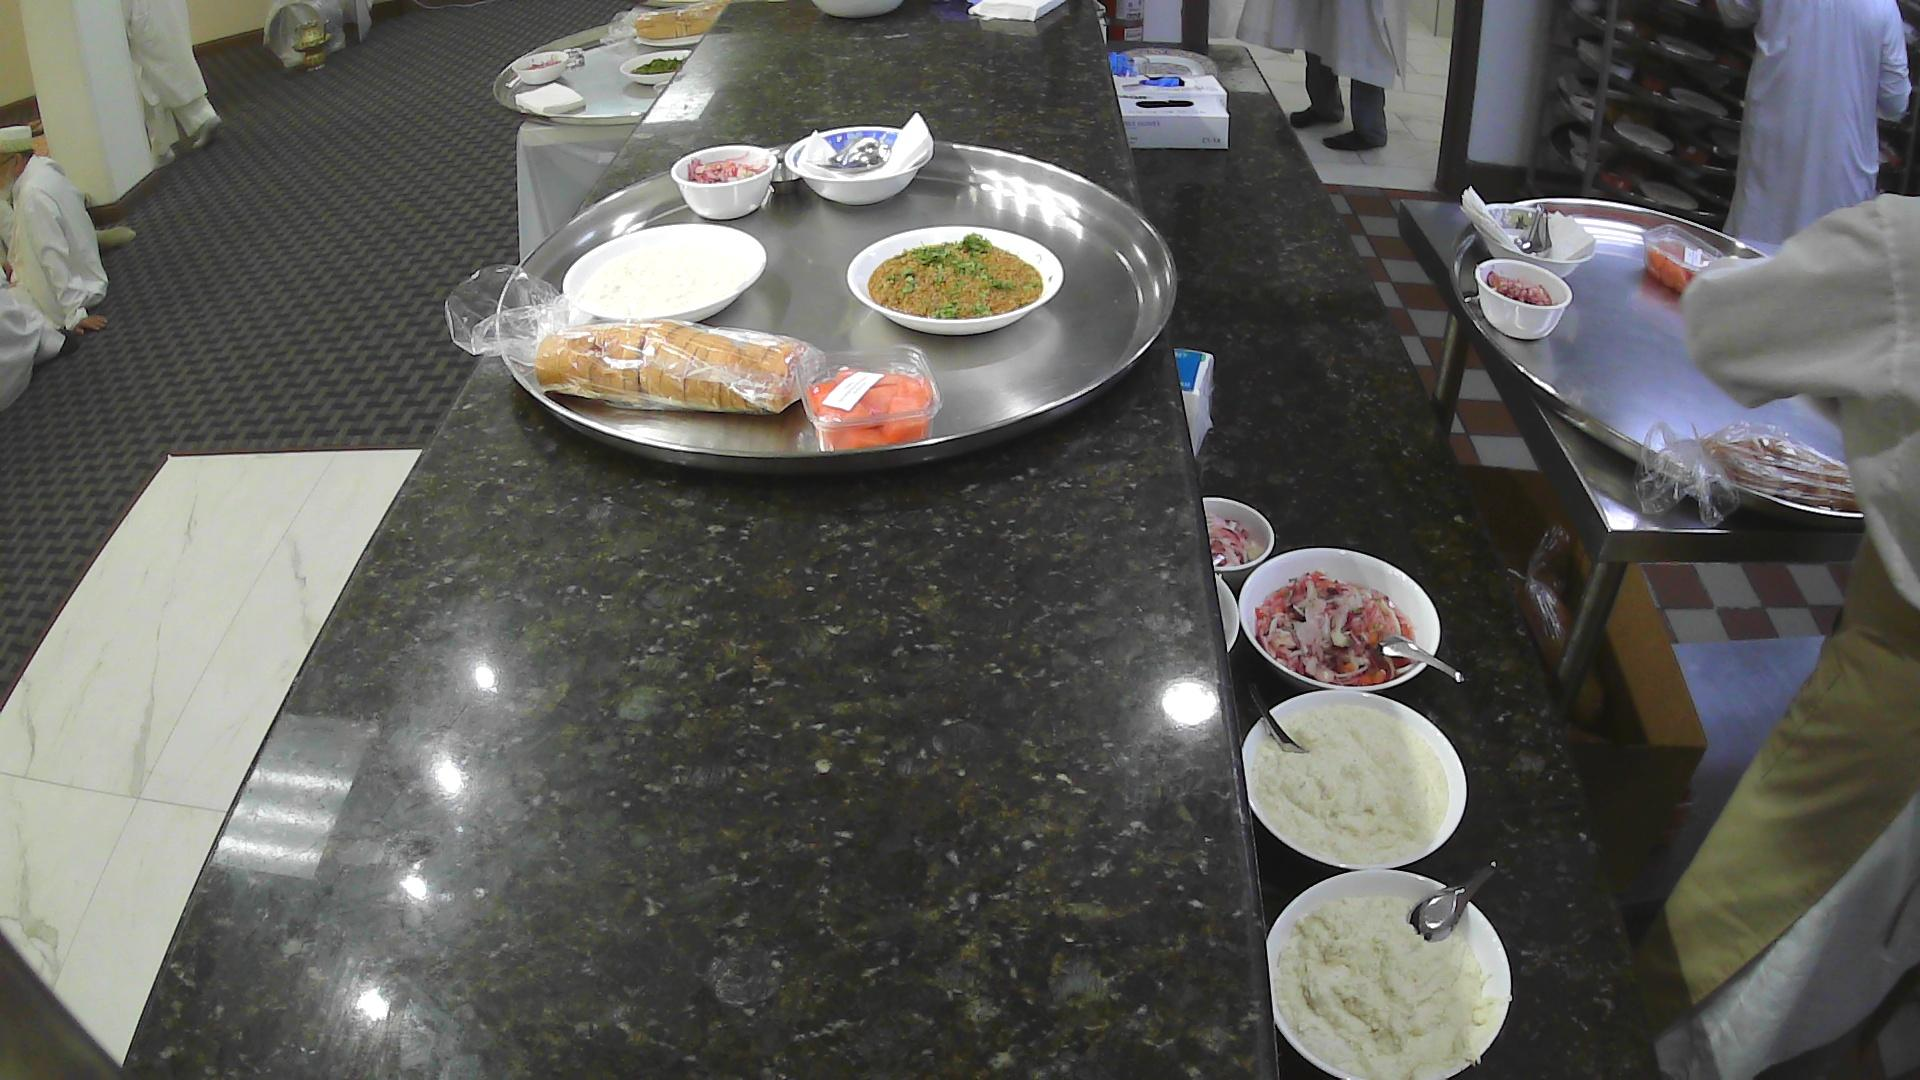thaal: (495, 137, 1180, 481), (1448, 195, 1879, 537), (492, 20, 716, 127)
